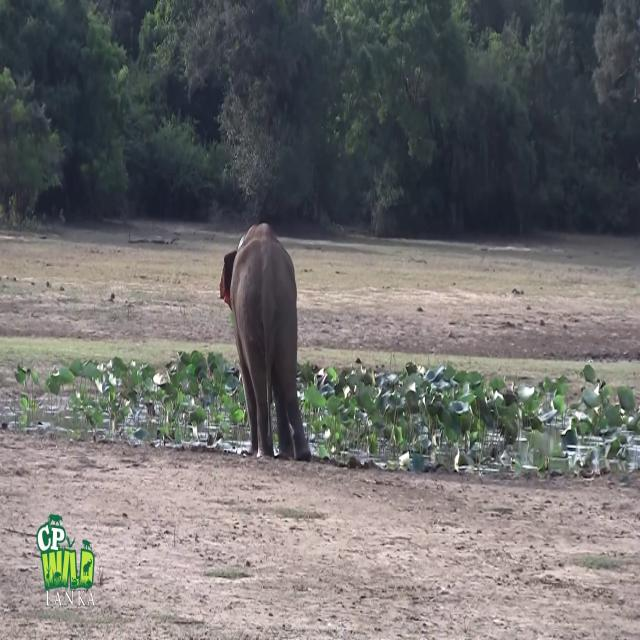Elephant: (220, 220, 311, 462)
